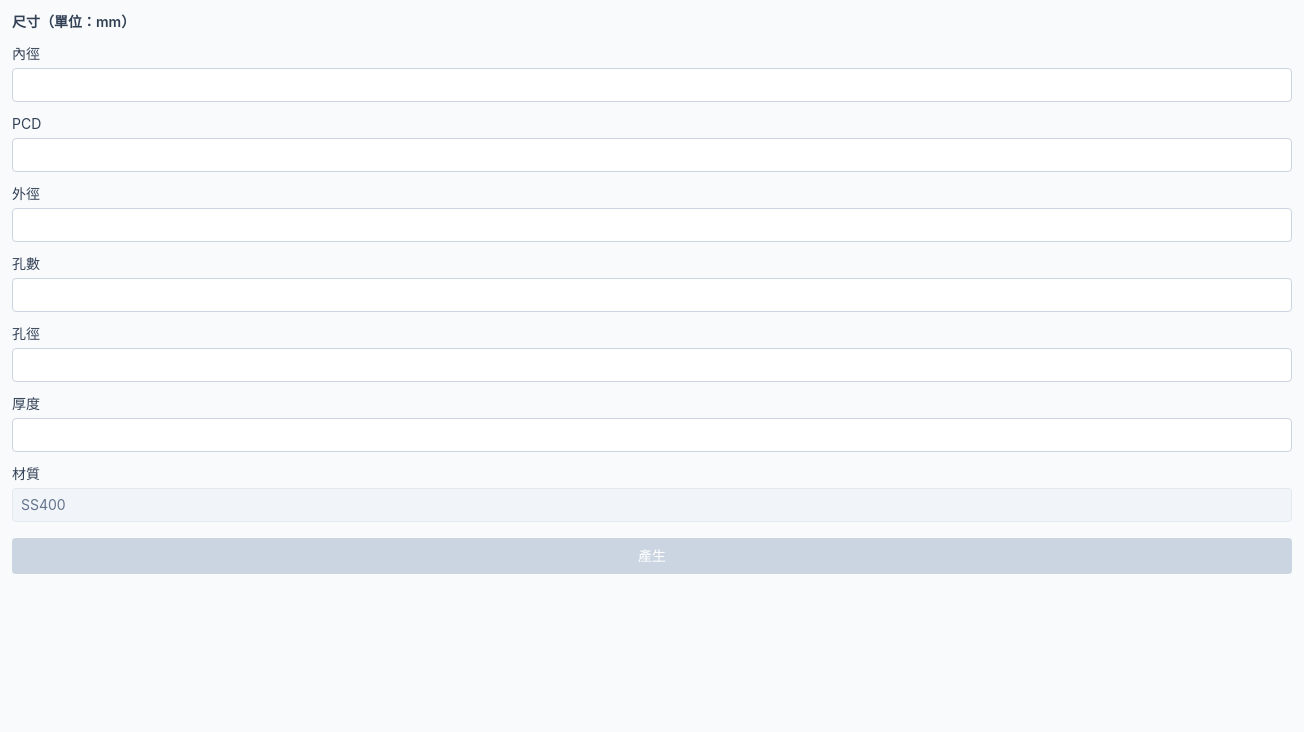
Test case: FlangeForm › shows PCD error when PCD <= inner diameter
Type "150" into the number field with test id "field-inner_diameter_mm". click: (652, 85)
box: [12,68,1292,102]
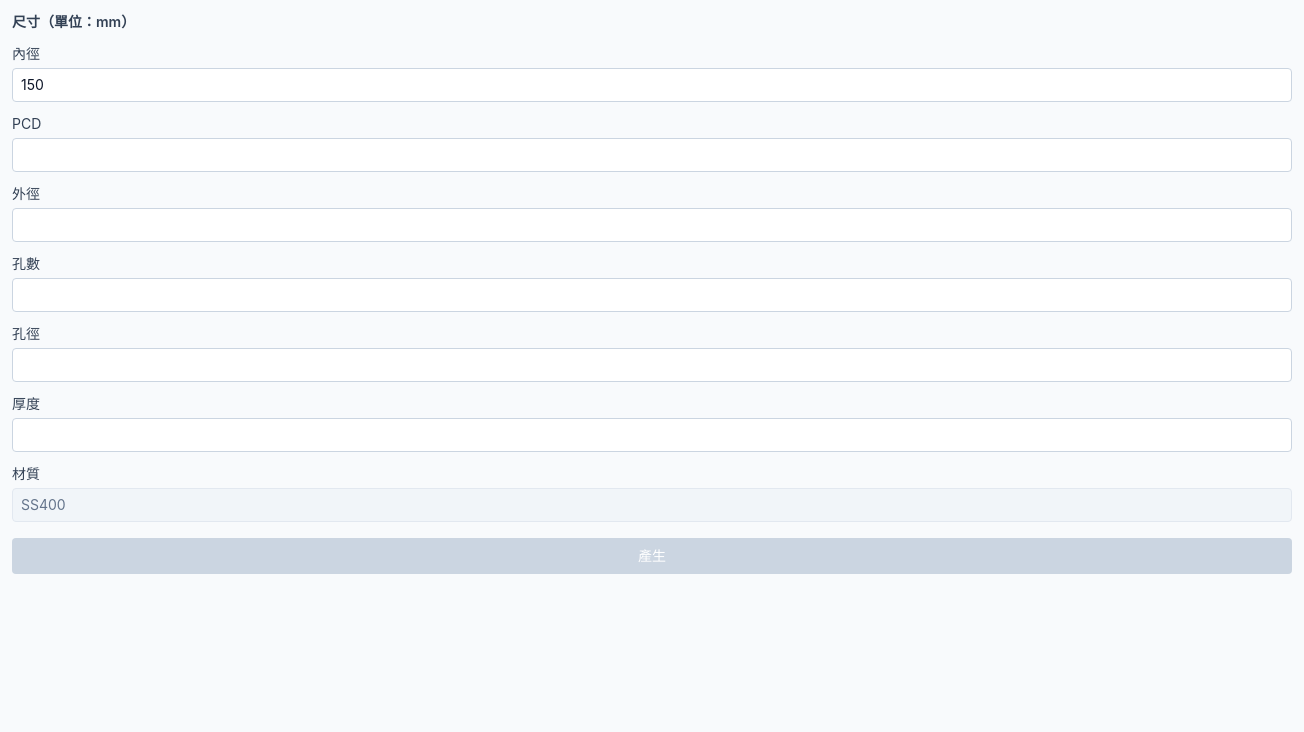
Type "100" into the number field with test id "field-pcd_mm". click: (652, 155)
box: [12,138,1292,172]
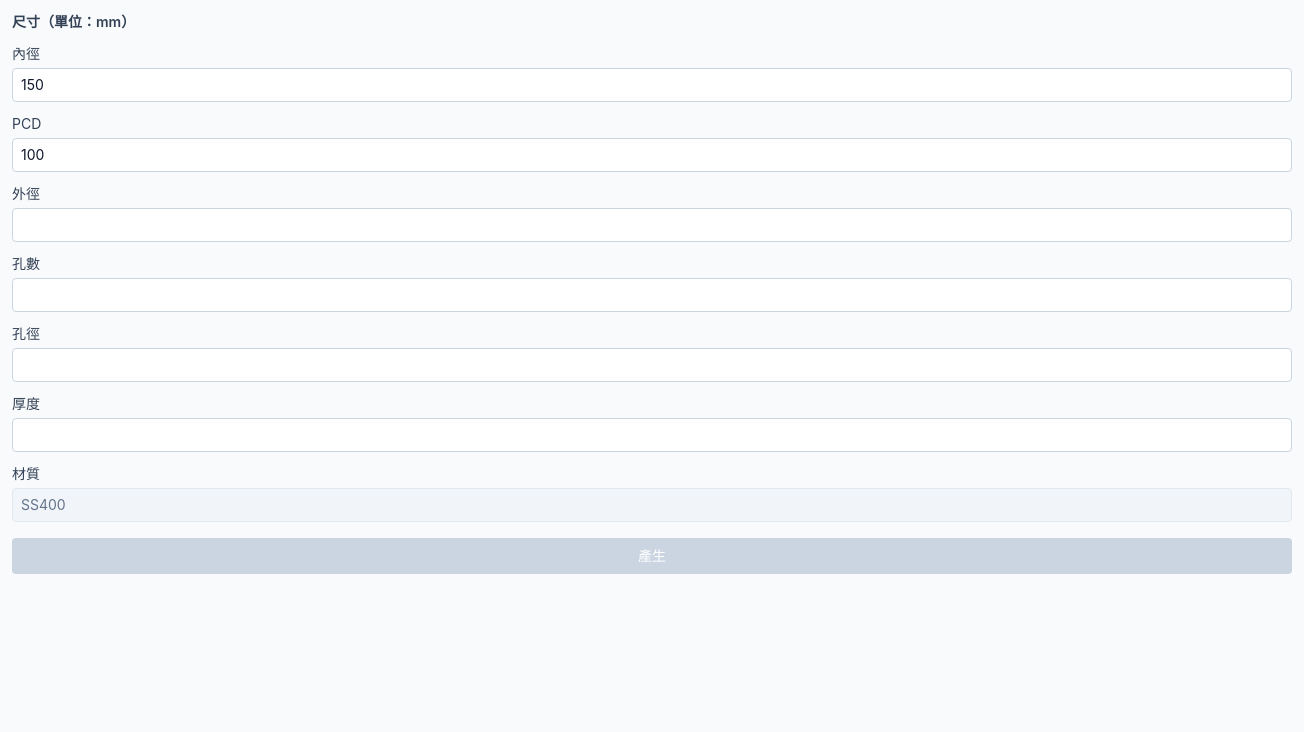
Type "200" into the number field with test id "field-outer_diameter_mm". click: (652, 225)
box: [12,208,1292,242]
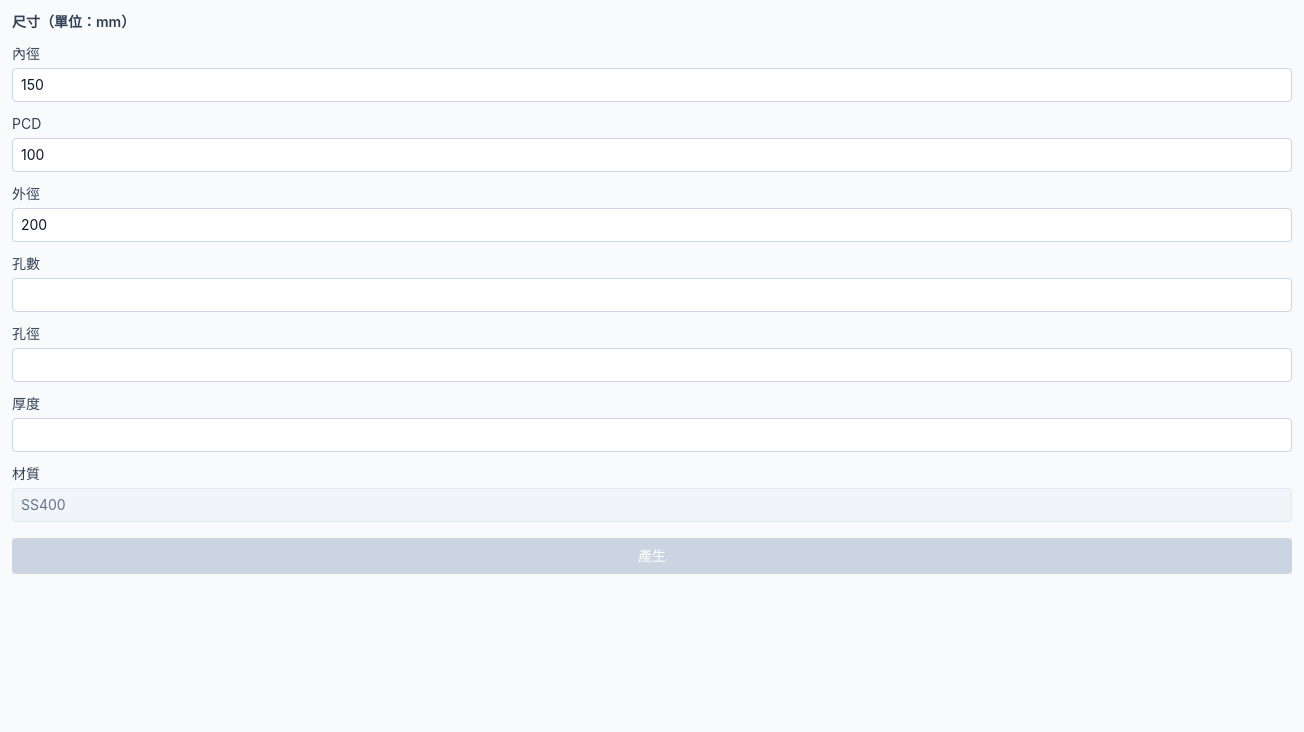
Type "4" into the number field with test id "field-bolt_hole_count". click: (652, 295)
box: [12,278,1292,312]
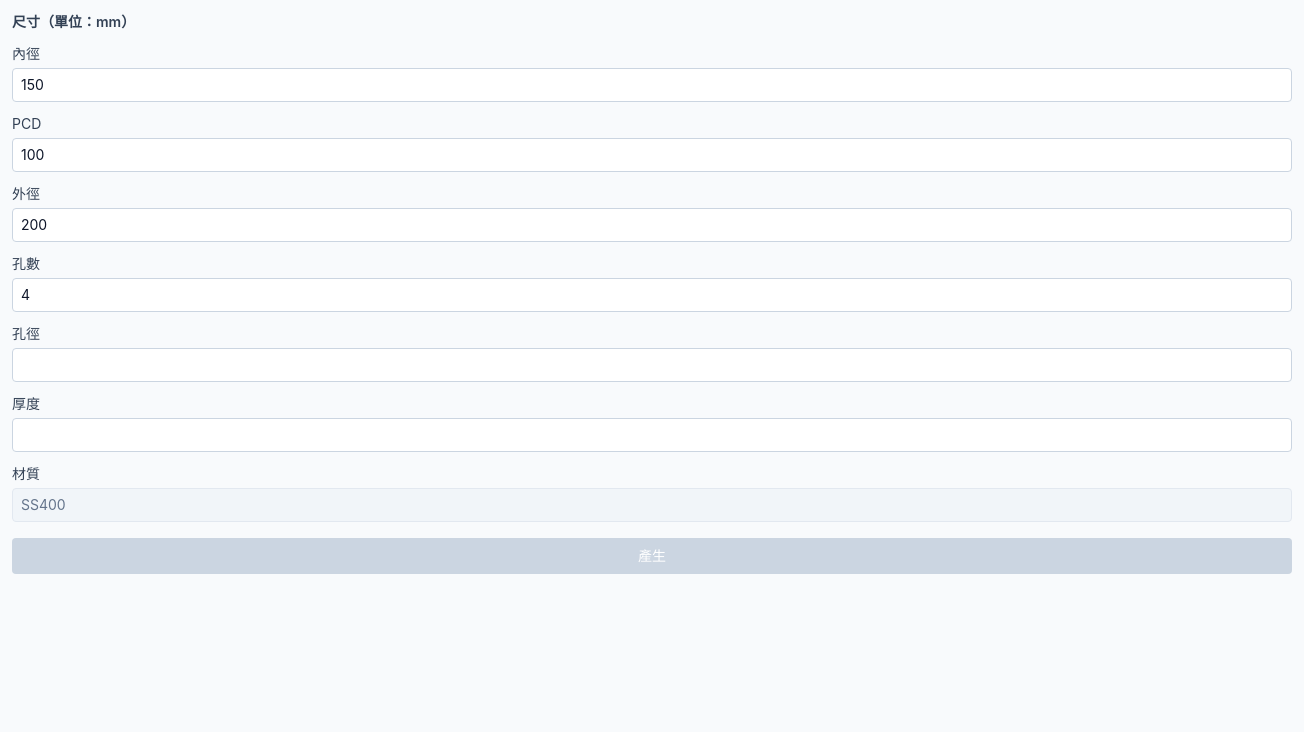
Type "10" into the number field with test id "field-bolt_hole_diameter_mm". click: (652, 365)
box: [12,348,1292,382]
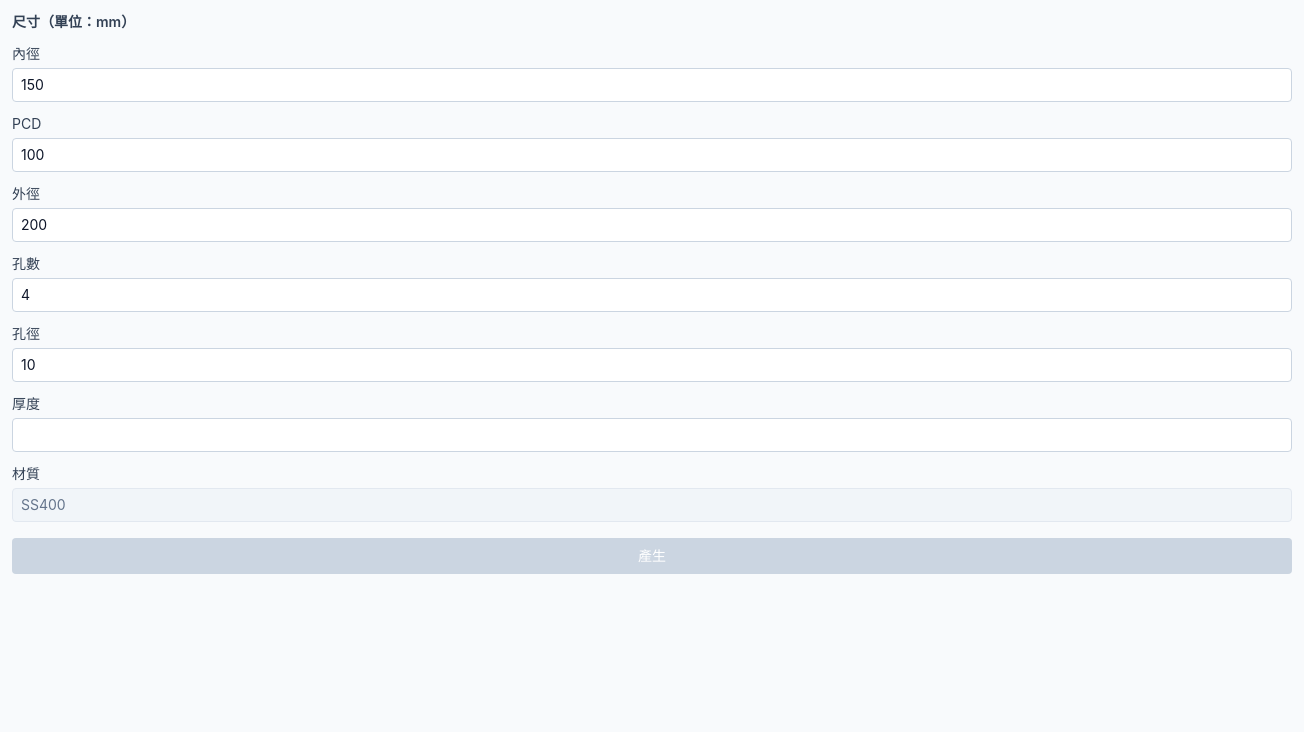
Type "12" into the number field with test id "field-thickness_mm". click: (652, 435)
box: [12,418,1292,452]
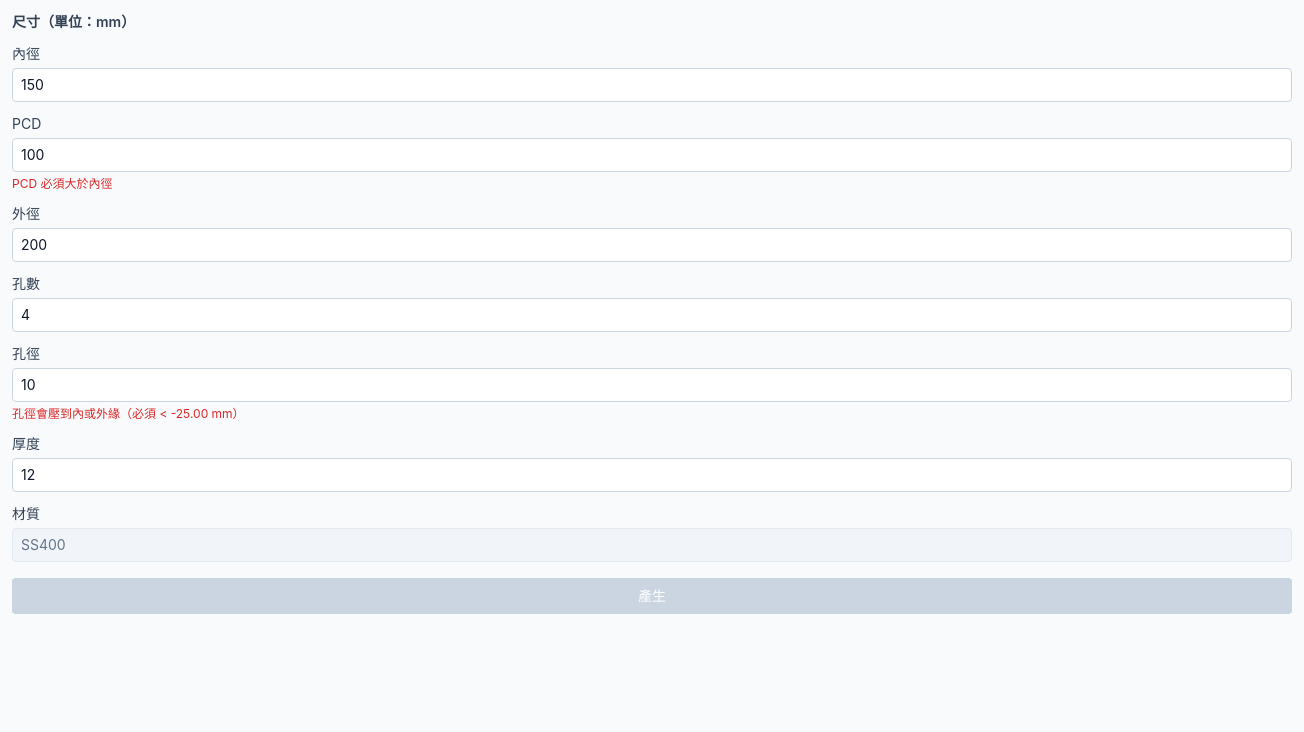
Expected: the text with test id "error-pcd_mm" reads "PCD 必須大於內徑", [12,176,112,191]
